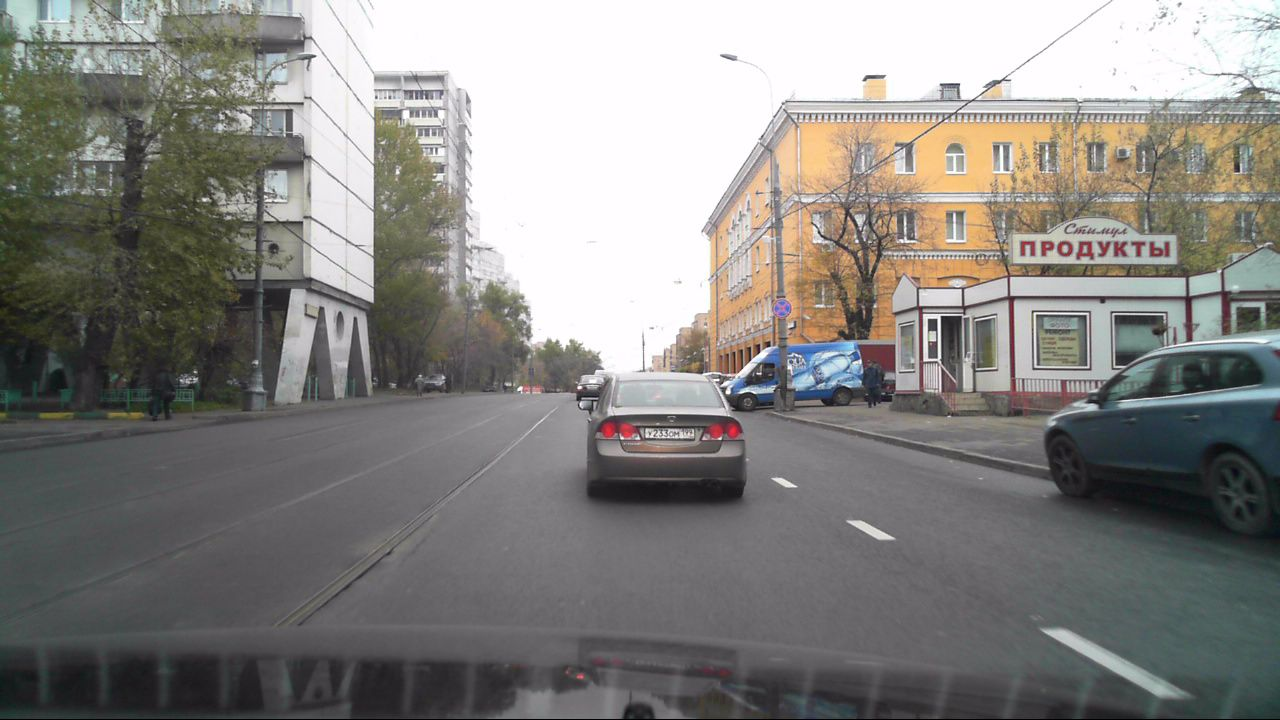No Parking: (772, 298, 792, 318)
